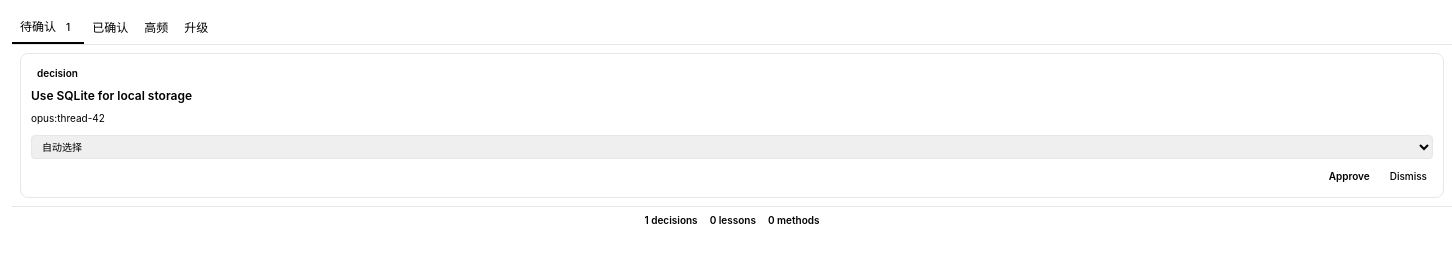
Test: KnowledgeFeed — Collection selector (AC-D1) › shows error when visibility-widening retry also fails (P2-1)
The image size is (1452, 269).
Select "Global Methods (public)" in the dropdown: (732, 146) left=31, top=134, right=1433, bottom=158
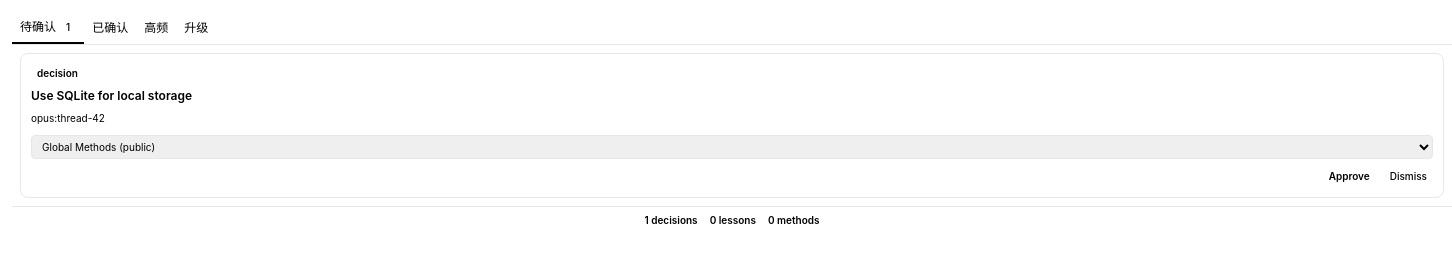
Click the button "Approve": (1349, 176) left=1321, top=164, right=1378, bottom=186
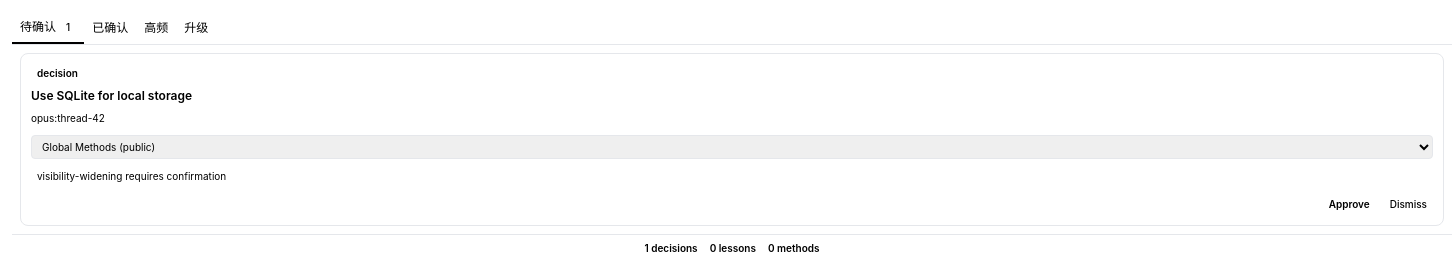
Expected: the text "visibility-widening" is shown, left=37, top=170, right=226, bottom=182
